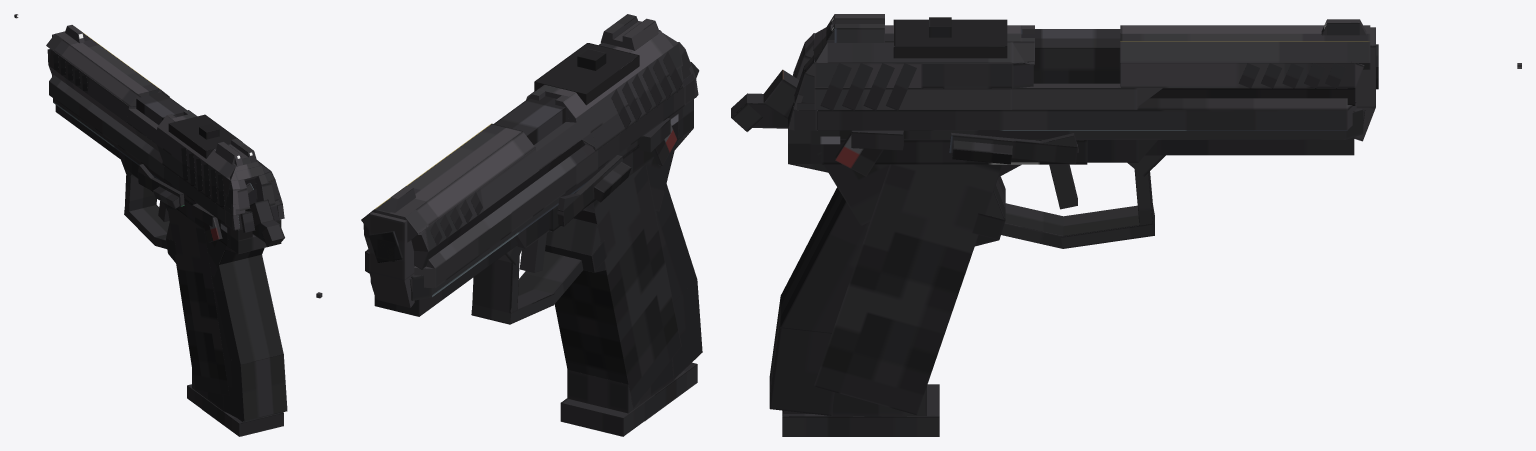
The picture shows the model from 3 angles, left to right: view 1: azimuth 30°, elevation 25°; view 2: azimuth 150°, elevation 25°; view 3: azimuth 270°, elevation 25°; orthographic projection. The views are drawn at different scales.
Parts seen in each view (by area): view 1: gun, slide, magazine, sightmount, hammer; view 2: gun, slide, magazine, sightmount, _cb_scope, _cb_suppressor; view 3: gun, slide, sightmount, magazine, hammer.
Boxes of the visible parts, x1,y1,x2,y2 form: gun: (53, 92, 287, 421); slide: (46, 25, 284, 230); magazine: (187, 250, 283, 436); sightmount: (168, 114, 242, 158); hammer: (245, 199, 284, 246); gun: (369, 96, 702, 413); slide: (361, 14, 698, 307); magazine: (560, 362, 697, 436); sightmount: (534, 43, 639, 105); _cb_scope: (577, 48, 606, 70); _cb_suppressor: (376, 238, 395, 261); gun: (769, 29, 1378, 416); slide: (788, 14, 1375, 141); sightmount: (893, 19, 1007, 58); magazine: (782, 384, 939, 436); hammer: (731, 69, 799, 131).
Size of the model in its own units: 31.04 by 121 by 218.
